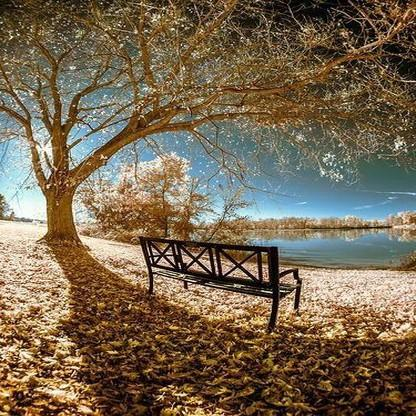obstacle: (125, 219, 312, 335)
